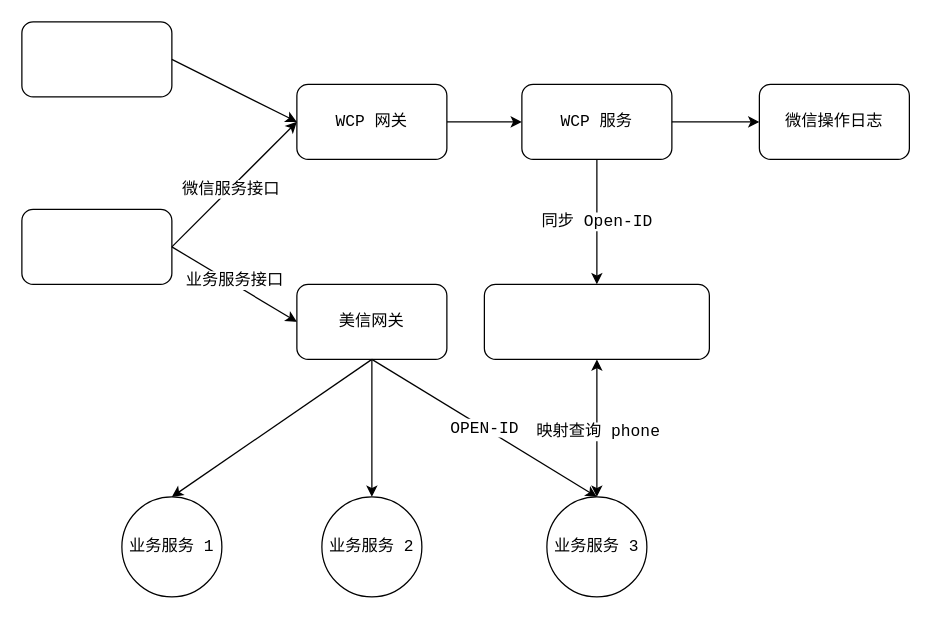
This 931x619 diagram has some shape labels left out. Each missing label, with the box of its shape:
C4A 系统 map[Open-ID] = phone: (483, 283, 709, 359)
微信 H5 应用: (21, 208, 172, 284)
微信平台 回调事件: (21, 21, 172, 97)
